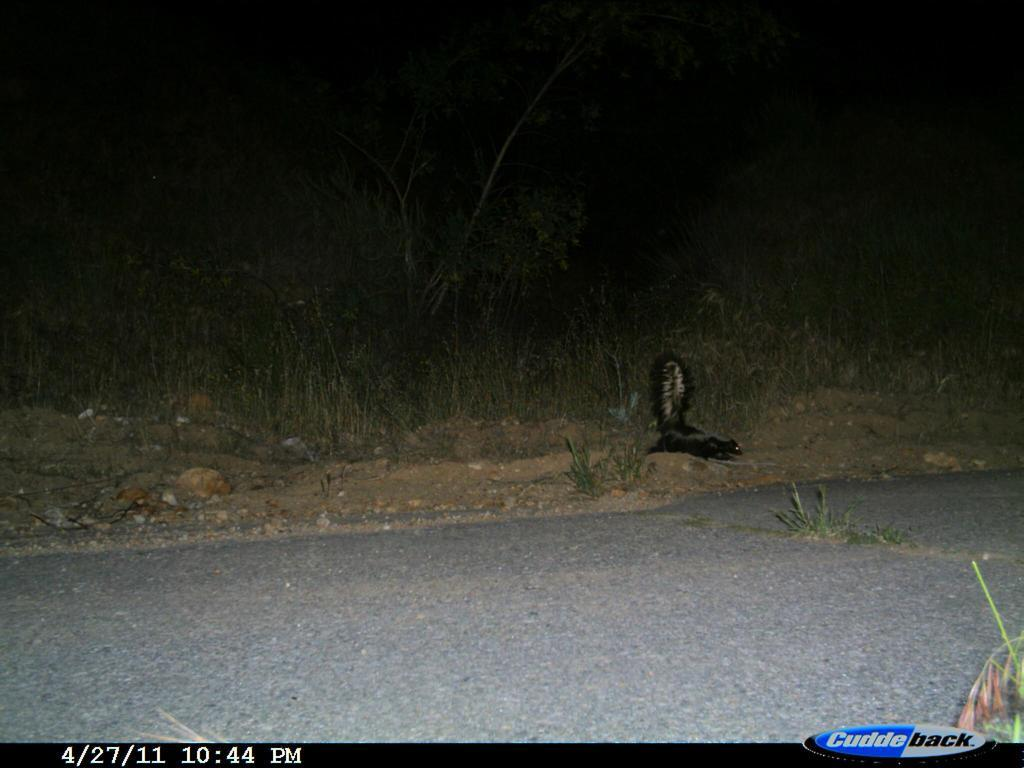skunk: (635, 351, 747, 464)
